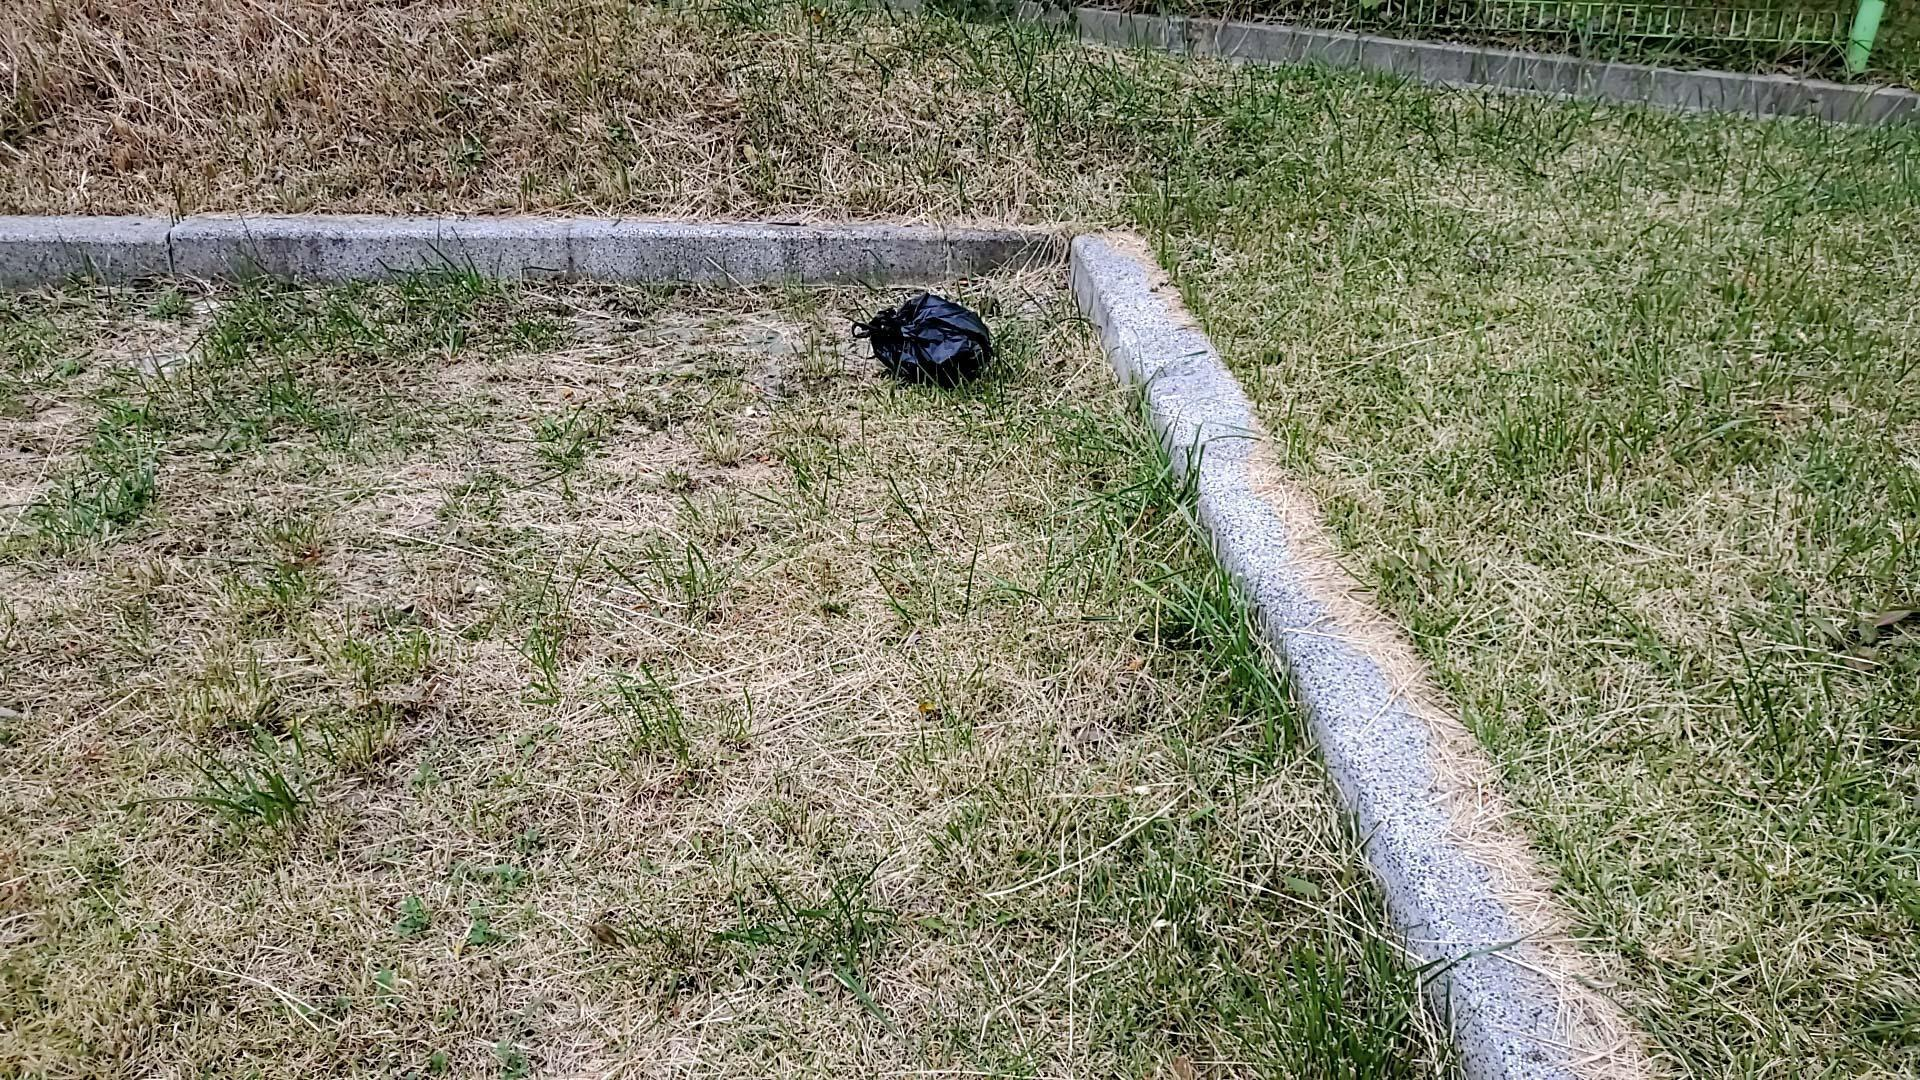black_bag: (841, 287, 997, 392)
